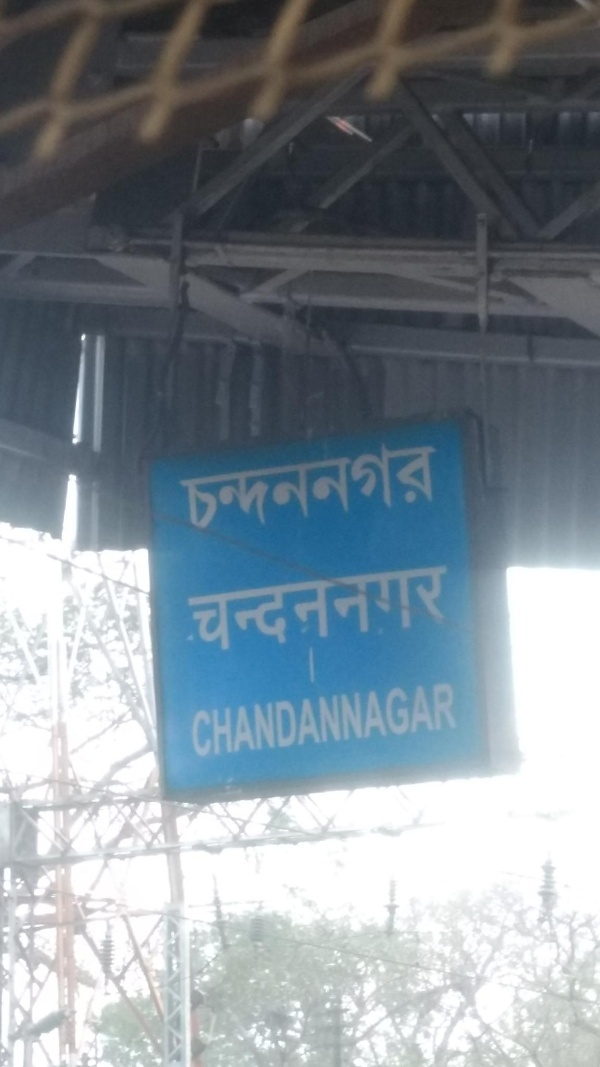text: (193, 557, 208, 664), (209, 557, 224, 664), (225, 557, 240, 664), (241, 557, 256, 664), (257, 557, 272, 664), (273, 557, 288, 664), (289, 557, 304, 664), (305, 557, 320, 664), (321, 557, 336, 664), (337, 557, 352, 664), (353, 557, 368, 664), (369, 557, 384, 664), (385, 557, 400, 664), (401, 557, 416, 664), (417, 557, 432, 664), (433, 557, 448, 664), (193, 436, 208, 537), (209, 436, 224, 537), (225, 436, 240, 537), (241, 436, 256, 537), (257, 436, 272, 537), (273, 436, 288, 537), (289, 436, 304, 537), (305, 436, 320, 537), (321, 436, 336, 537), (337, 436, 352, 537), (353, 436, 368, 537), (369, 436, 384, 537), (385, 436, 400, 537), (401, 436, 416, 537), (417, 436, 432, 537), (178, 436, 192, 537), (193, 673, 208, 764), (209, 673, 224, 764), (225, 673, 240, 764), (241, 673, 256, 764), (257, 673, 272, 764), (273, 673, 288, 764), (289, 673, 304, 764), (305, 673, 320, 764), (321, 673, 336, 764), (337, 673, 352, 764), (353, 673, 368, 764), (369, 673, 384, 764), (385, 673, 400, 764), (401, 673, 416, 764), (417, 673, 432, 764), (433, 673, 448, 764), (449, 673, 464, 764), (465, 673, 479, 764), (179, 673, 192, 764), (183, 557, 192, 664), (433, 436, 439, 537), (449, 557, 454, 664)
